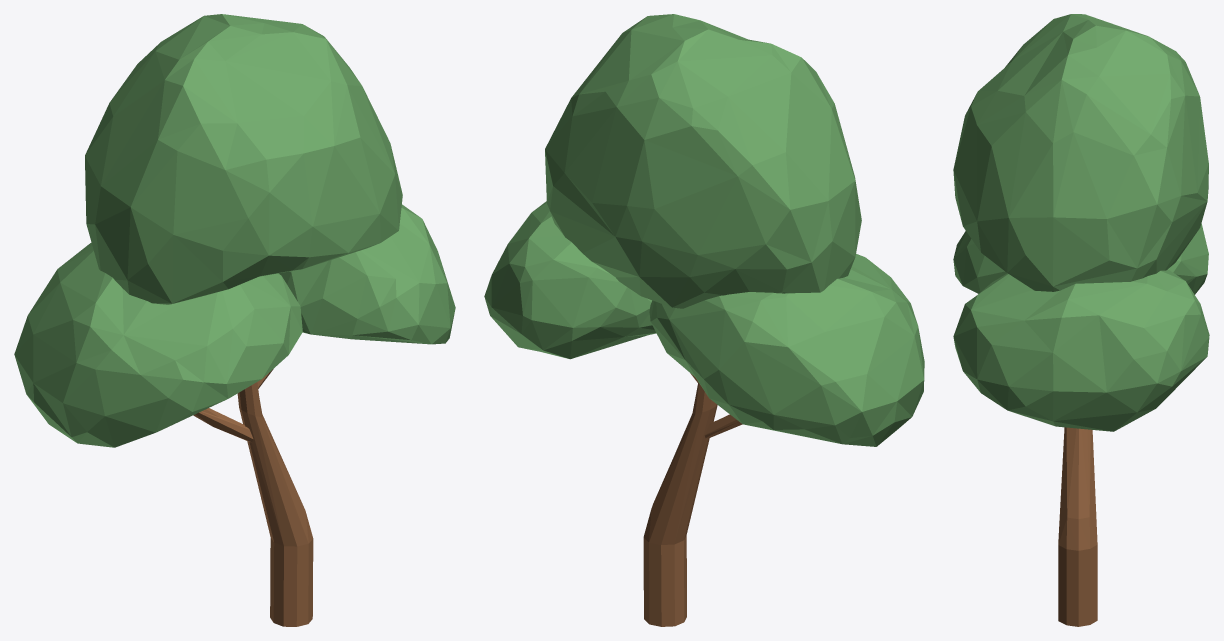
Rendered from prop-tree-leafy.glb.
3 views of the same model, side by side, from view 1: azimuth 30°, elevation 25°; view 2: azimuth 150°, elevation 25°; view 3: azimuth 270°, elevation 25° (orthographic). The views are drawn at different scales.
Visible parts, largest first — view 1: Tree2; view 2: Tree2; view 3: Tree2.
Boxes of the visible parts, x1=… form: Tree2: x1=14, y1=14, x2=455, y2=626; Tree2: x1=484, y1=14, x2=924, y2=626; Tree2: x1=953, y1=14, x2=1209, y2=626.
Bounding box in the file's own units: 3.73 × 5.54 × 2.26.
